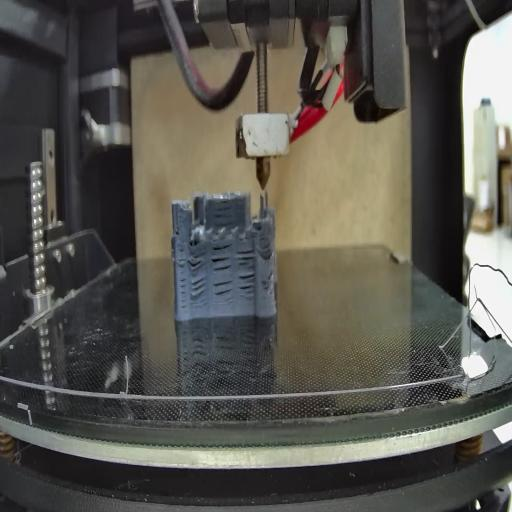cracks: (213, 200, 236, 226), (212, 244, 233, 272), (236, 272, 256, 301), (210, 278, 232, 302), (178, 258, 187, 313), (188, 251, 206, 271), (235, 246, 254, 264), (260, 239, 274, 260), (191, 278, 206, 296), (172, 223, 182, 237), (265, 268, 275, 282)
